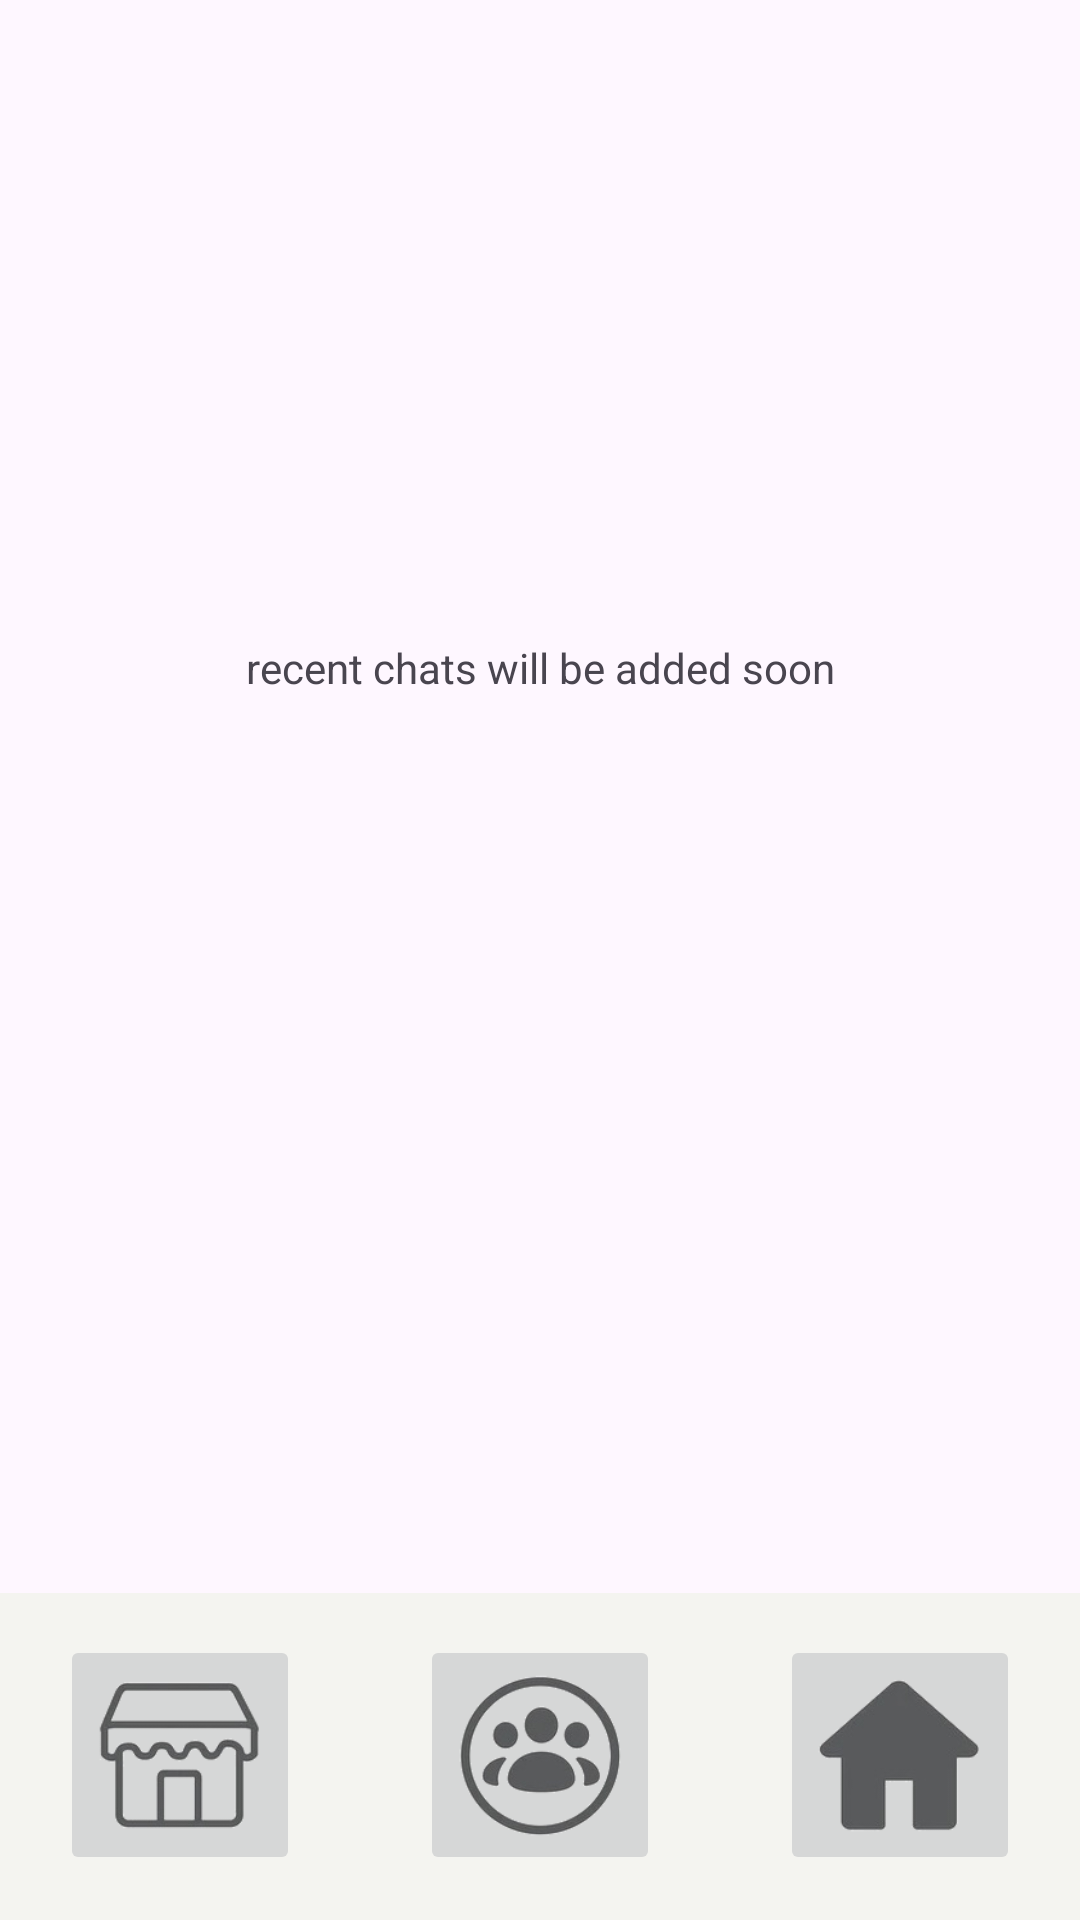

Icons on this 1080*1920 Android screen, each with the point to tap as [x,y]:
chats: [540,1755]
home: [900,1755]
market: [180,1755]
